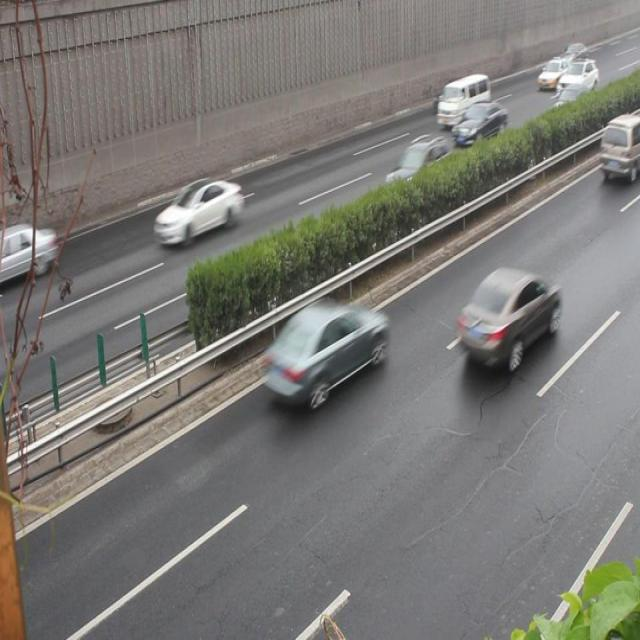car: (262, 300, 387, 405), (455, 264, 558, 369), (152, 177, 242, 245), (383, 133, 449, 204), (1, 222, 56, 288), (451, 102, 507, 148), (543, 86, 593, 134), (554, 58, 597, 100), (537, 58, 570, 90)
truck: (436, 75, 490, 129), (598, 115, 640, 182)
